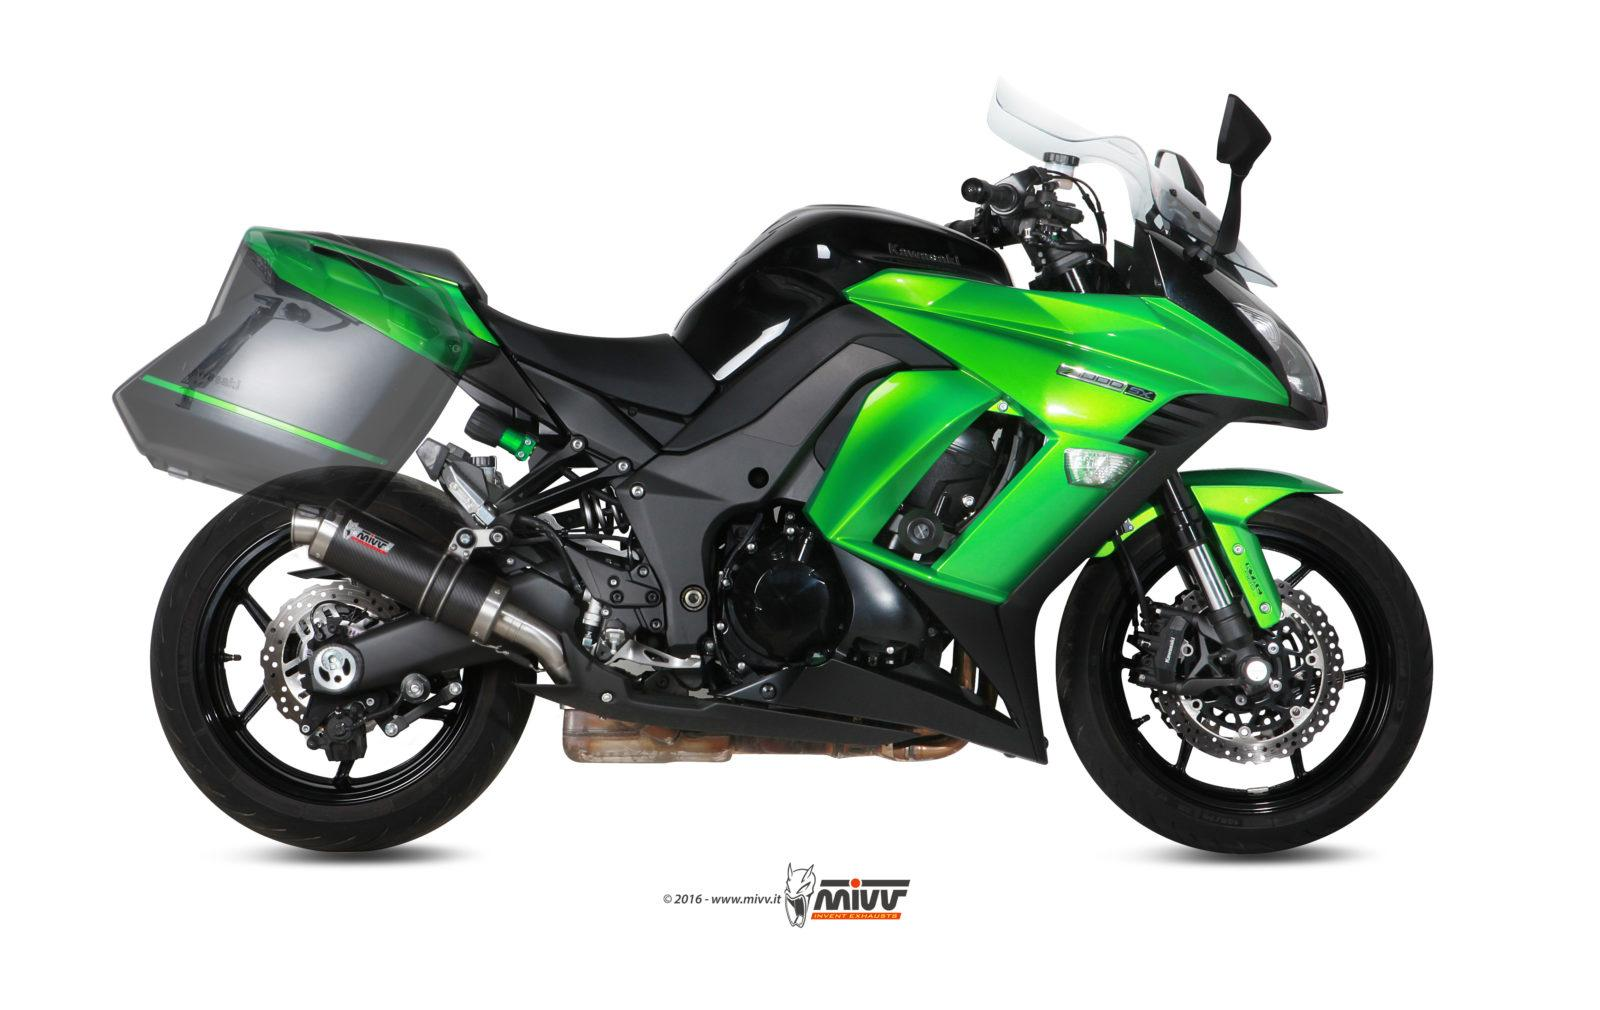engine-chasis: (563, 303, 1038, 763)
exhaust: (290, 497, 969, 764), (951, 636, 1000, 709)
frontside: (801, 74, 1345, 766)
handlebar: (944, 151, 1197, 294), (1214, 92, 1272, 256), (1154, 148, 1208, 207)
motorbike: (112, 80, 1435, 853)
rearside: (173, 225, 685, 647), (298, 612, 502, 696)
seat: (293, 232, 716, 417)
tank: (670, 202, 1016, 385)
watermark: (661, 860, 917, 931)
wheel: (149, 464, 538, 852), (1055, 493, 1435, 854), (1112, 527, 1151, 624)
